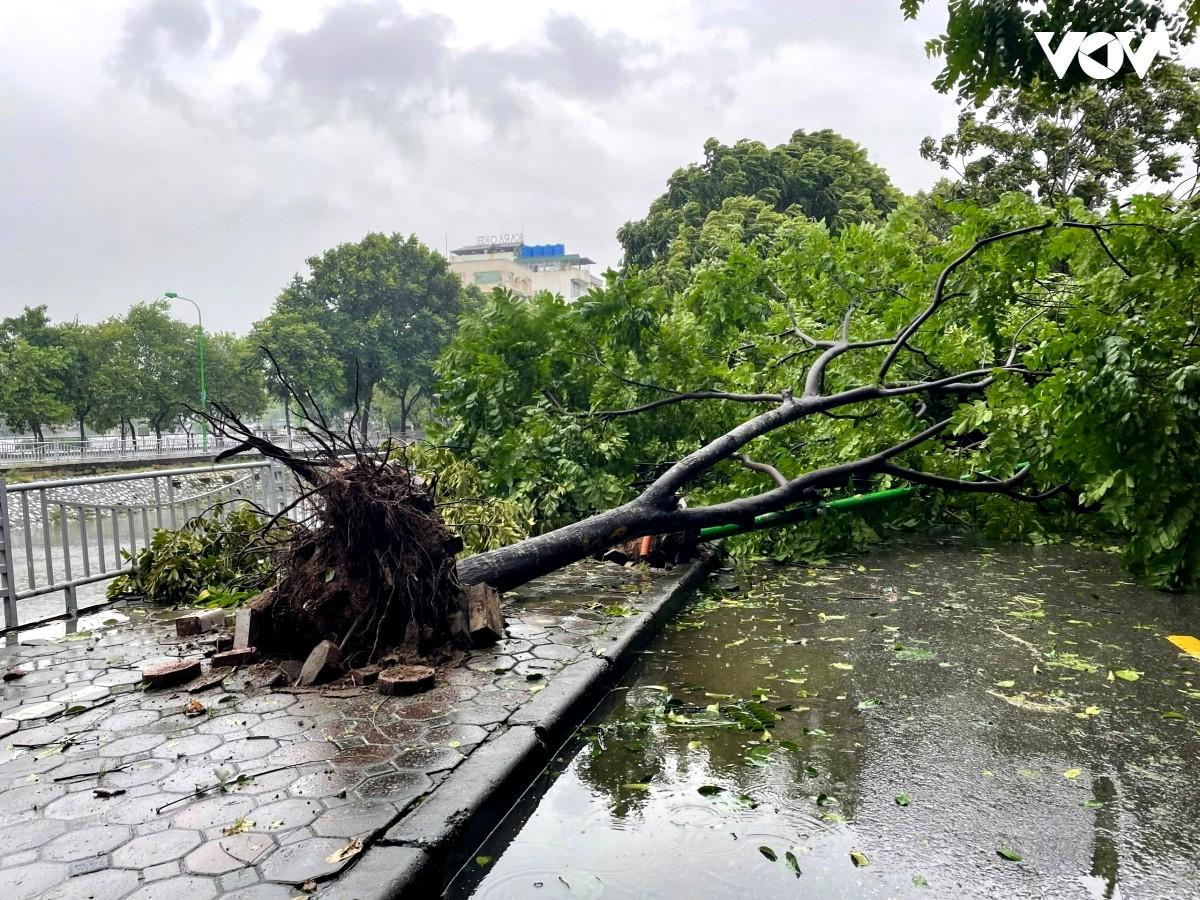ROAD_OBSTACLE: (108, 297, 1044, 819)
